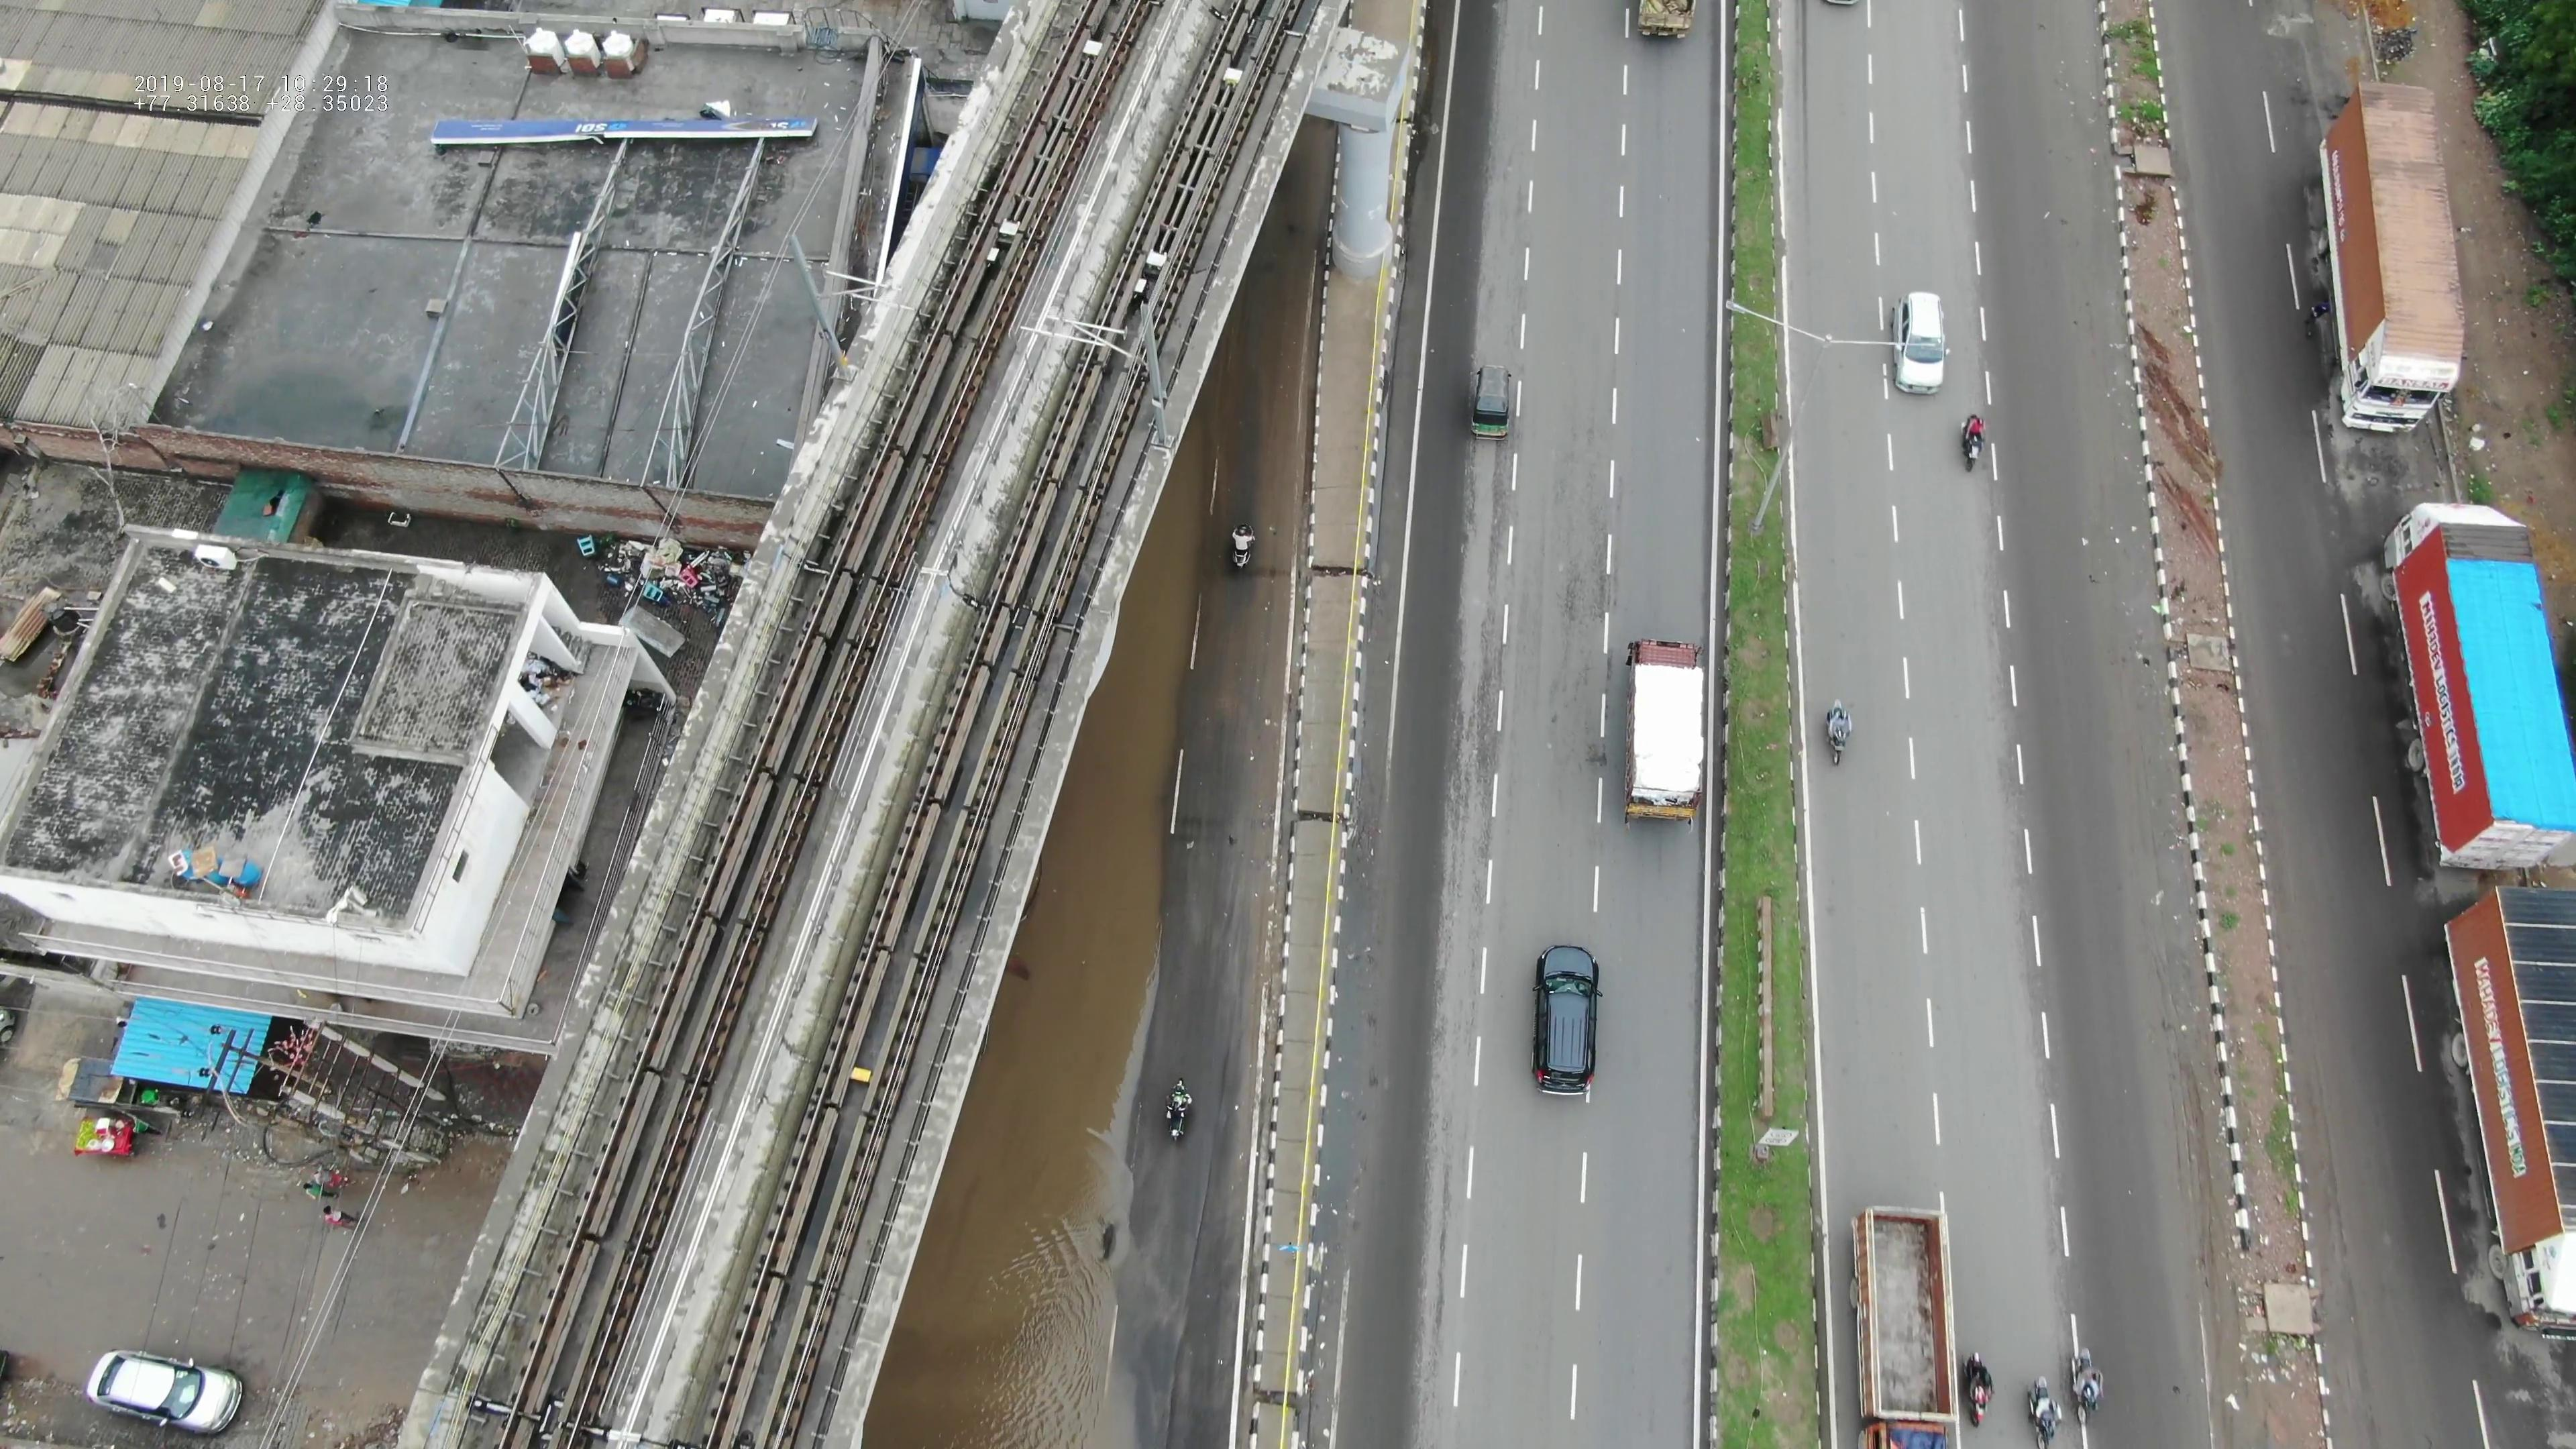Ravelling: (1537, 414, 1605, 738)
Waterlogging: (853, 1115, 1132, 1433), (959, 832, 1168, 1102), (1037, 640, 1185, 809)
